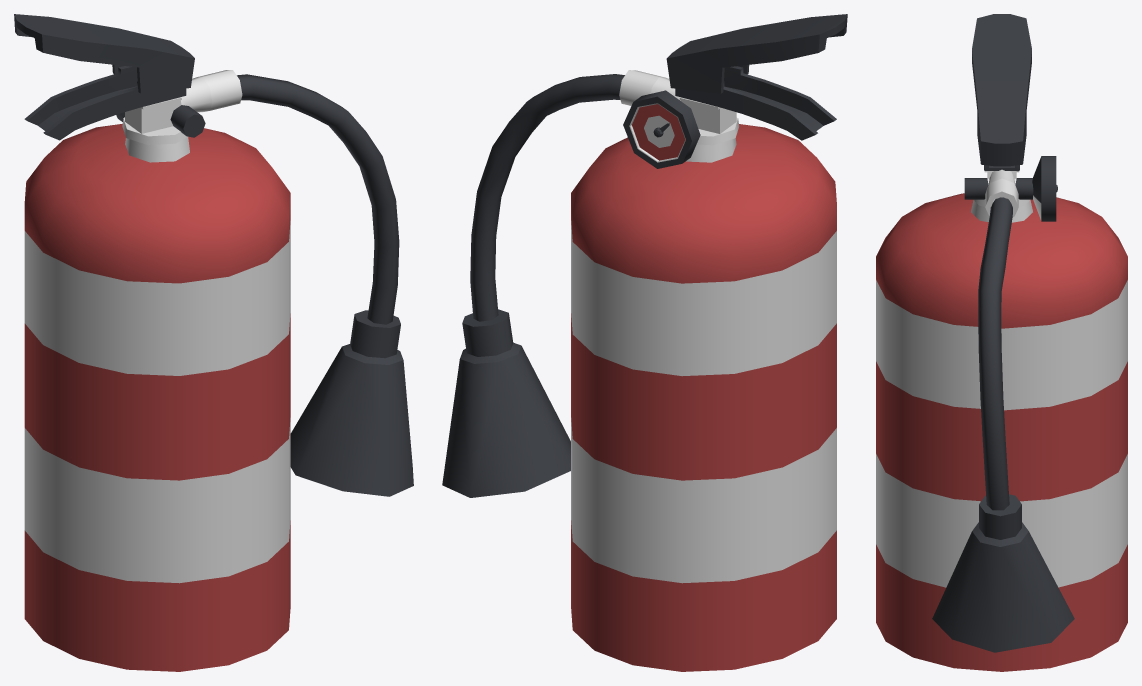
The model's file is extinguisher.fbx.
3 renders of one model, left to right at view 1: azimuth 30°, elevation 25°; view 2: azimuth 150°, elevation 25°; view 3: azimuth 270°, elevation 25°, orthographic. The views are drawn at different scales.
Visible parts, largest first — view 1: extinguisherBase, pipe.001; view 2: extinguisherBase, pipe.001; view 3: extinguisherBase, pipe.001.
Part boxes in pixels (x1,y1,x2,y2): extinguisherBase: (14,14,290,671); pipe.001: (237,74,413,496); extinguisherBase: (571,14,847,671); pipe.001: (442,74,624,497); extinguisherBase: (876,14,1127,671); pipe.001: (932,197,1074,652).
Size of the model in its own units: 0.4578 by 0.292 by 0.7032.
Materials: 1 (1 with a texture image).
